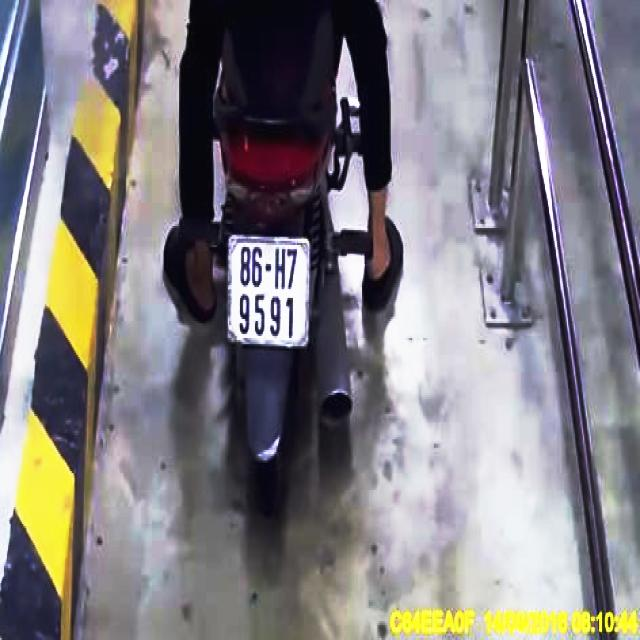license_plate: (229, 237, 313, 348)
